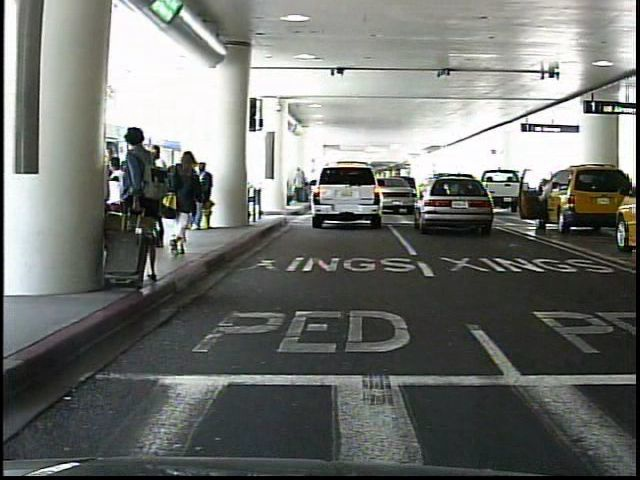person: (115, 123, 166, 287), (165, 146, 205, 260), (147, 145, 175, 239), (179, 157, 208, 234)
